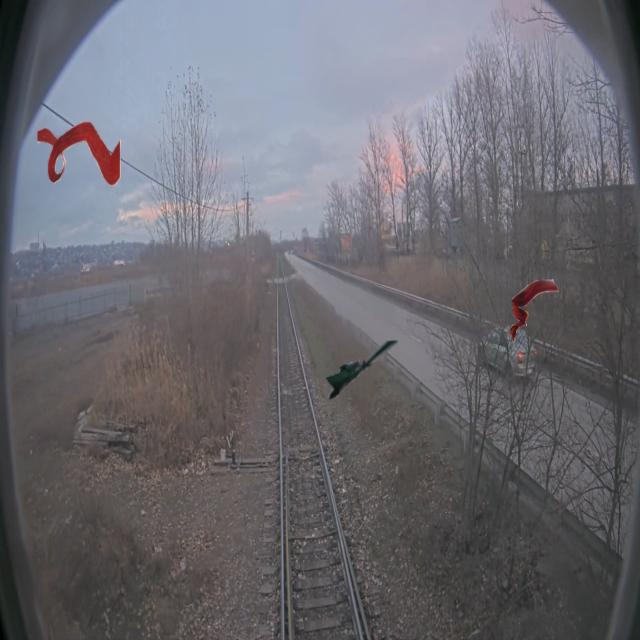floating object: (37, 121, 121, 186), (324, 336, 401, 401), (510, 279, 559, 343)
